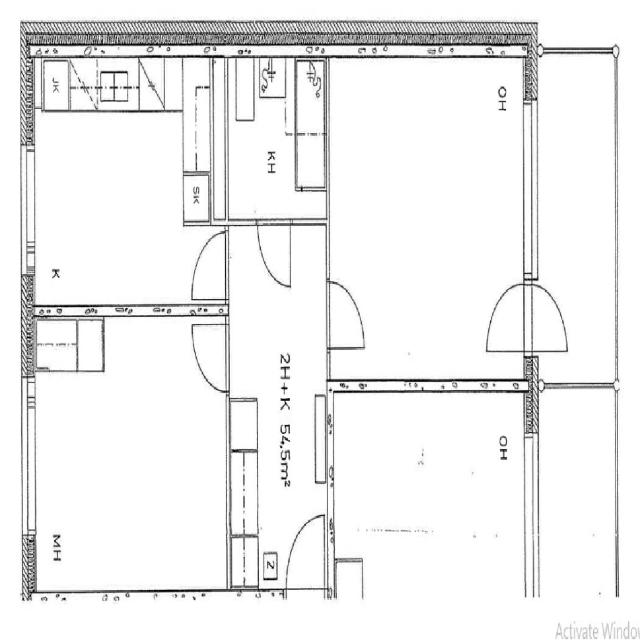door: (478, 269, 529, 363), (324, 269, 372, 366), (527, 271, 575, 365), (189, 312, 231, 398), (187, 225, 230, 308), (254, 213, 295, 293)
window: (515, 85, 546, 283), (517, 417, 545, 598), (17, 377, 42, 548), (16, 137, 40, 279), (332, 369, 417, 396)
zone: (324, 48, 532, 386), (24, 310, 233, 595), (330, 386, 532, 640), (23, 92, 211, 313), (228, 207, 330, 586), (532, 376, 622, 636), (204, 44, 315, 220), (40, 50, 190, 110), (283, 506, 327, 599)
